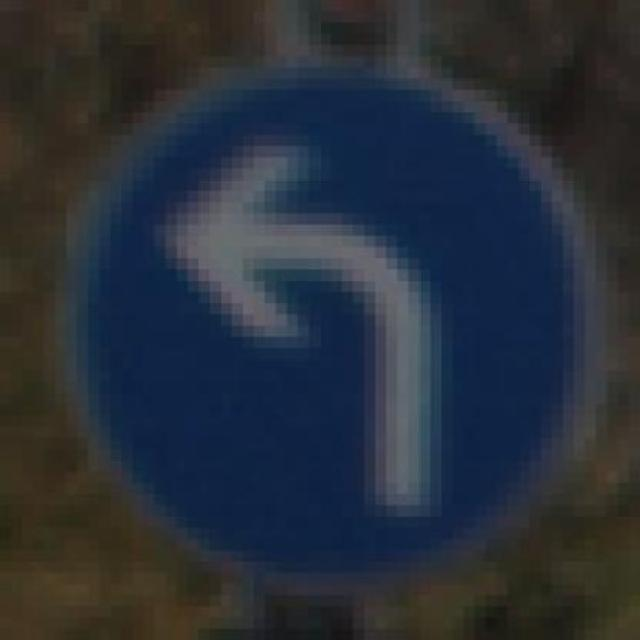Turn left ahead: (52, 56, 593, 573)
